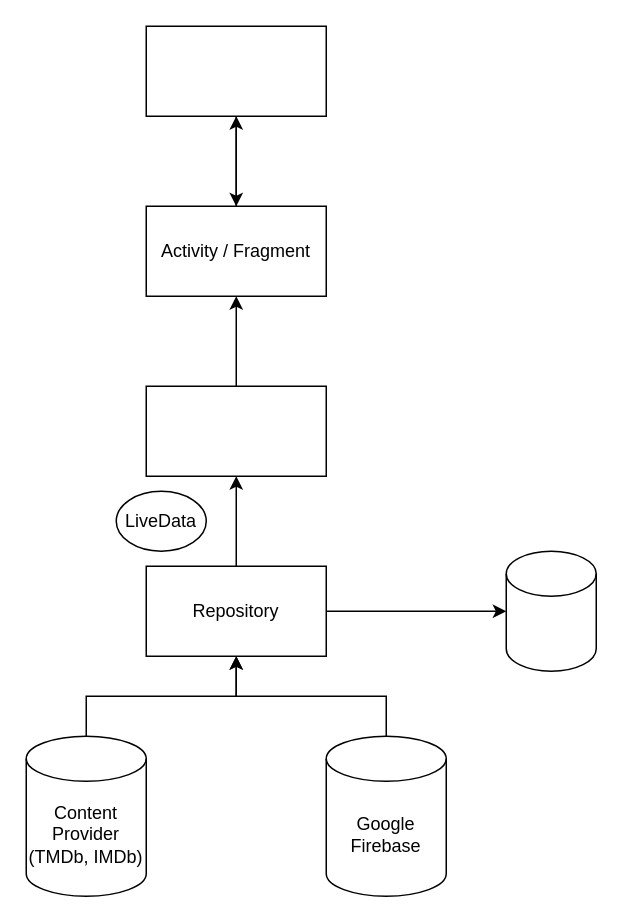
This 623x923 diagram has some shape labels left out. Each missing label, with the centre of its shape:
"Algolia" goes at [550,610].
"View" goes at [235,70].
"ViewModel" goes at [235,430].
